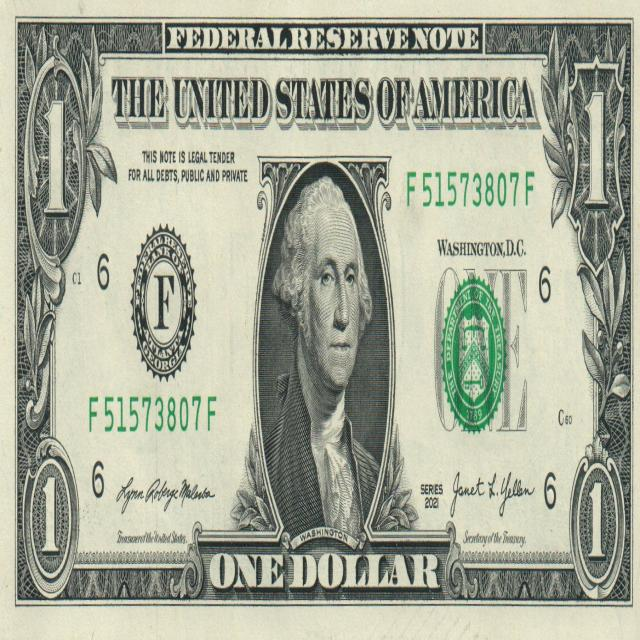SerialNumber: (89, 396, 216, 431), (422, 171, 534, 207)
